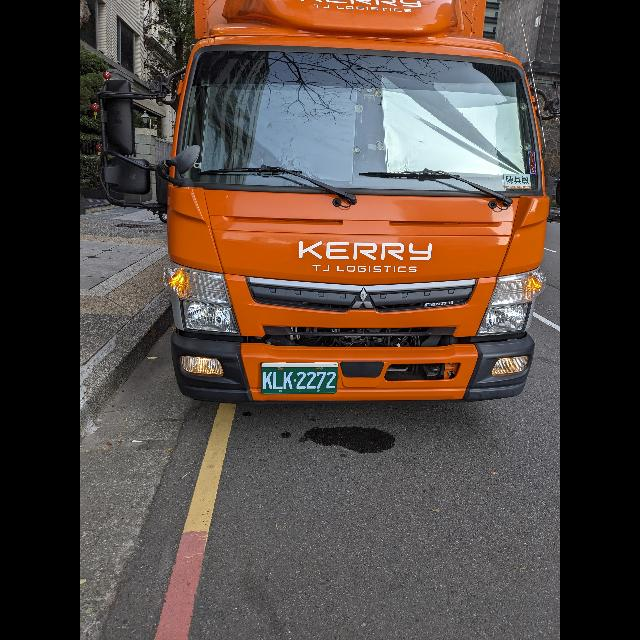plate: (261, 362, 338, 394)
